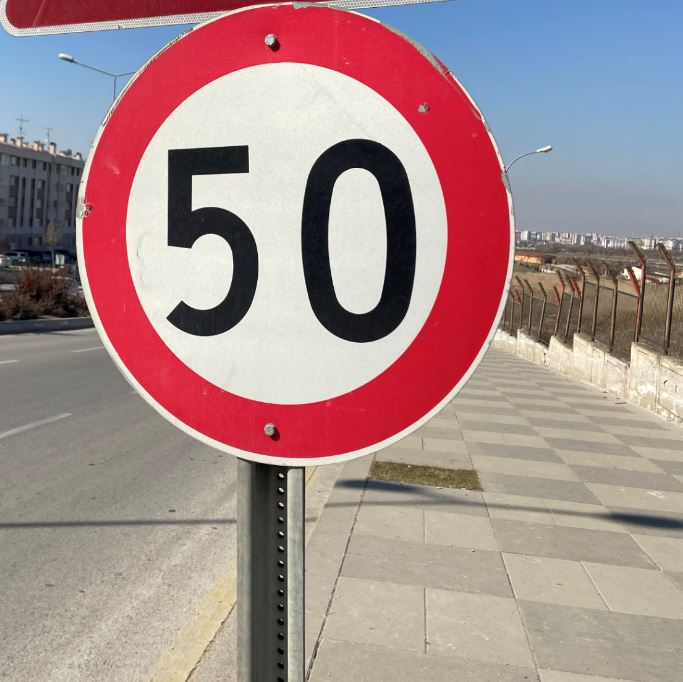50 Km Hiz Siniri: (80, 5, 516, 474)
